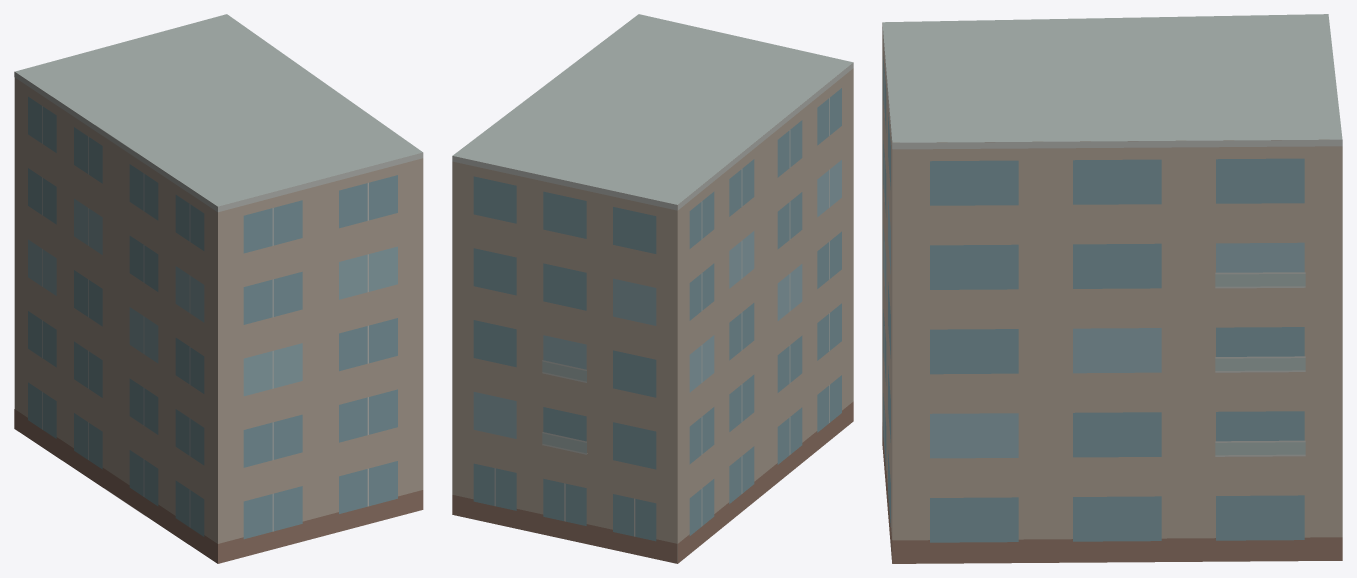
Rendered from survey-upis-32925696.glb.
3 views of the same model, side by side, from view 1: azimuth 30°, elevation 25°; view 2: azimuth 150°, elevation 25°; view 3: azimuth 270°, elevation 25° (orthographic). The views are drawn at different scales.
Visible parts, largest first — view 1: survey-upis-32925696.tmp; view 2: survey-upis-32925696.tmp; view 3: survey-upis-32925696.tmp.
Part boxes in pixels (x1,y1,x2,y2): survey-upis-32925696.tmp: [14, 14, 423, 563]; survey-upis-32925696.tmp: [452, 14, 853, 563]; survey-upis-32925696.tmp: [882, 14, 1342, 563].
Size of the model in its own units: 10.11 by 15.4 by 15.26.
